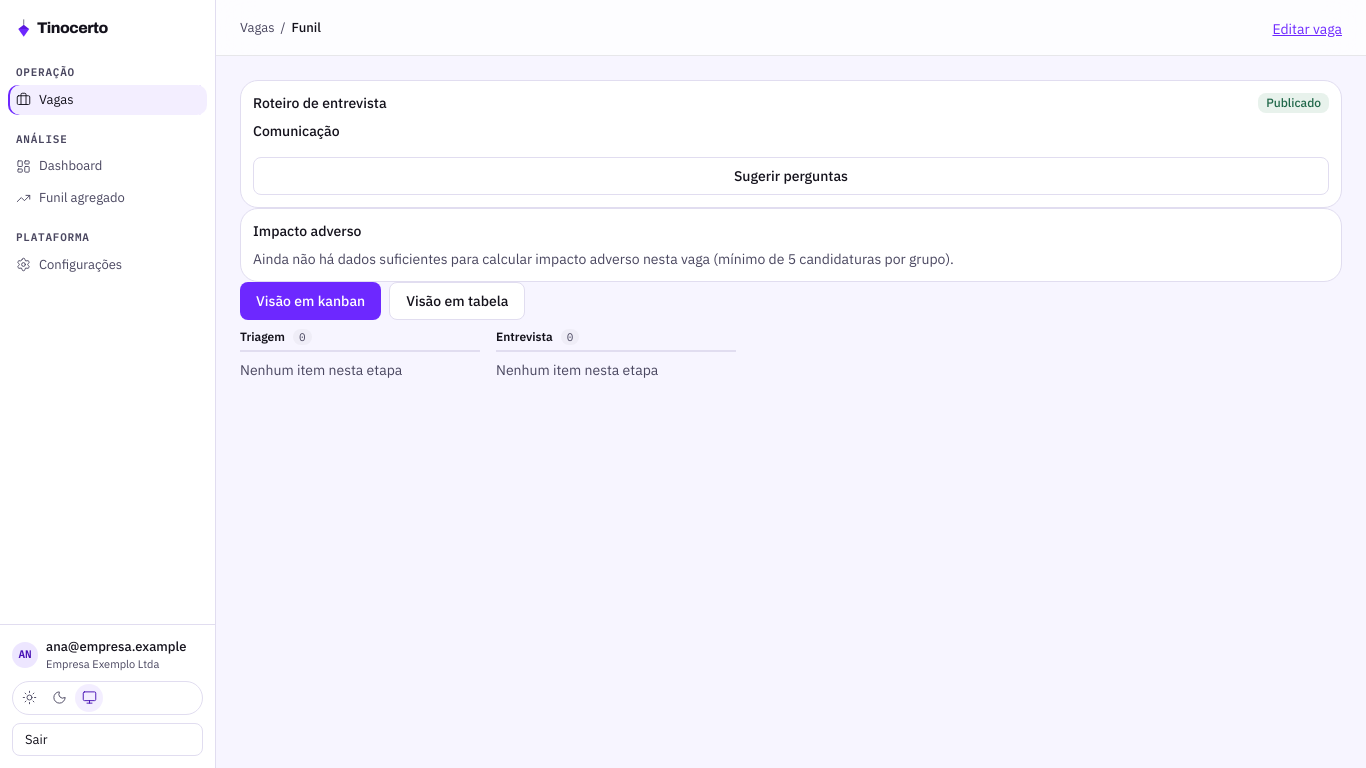
Test: FunilPage › mostra mensagem de indisponibilidade quando gerar perguntas falha com 503
The image size is (1366, 768).
Click the button "Sugerir perguntas" at coordinates (791, 176), box x1=253 y1=157 x2=1329 y2=195
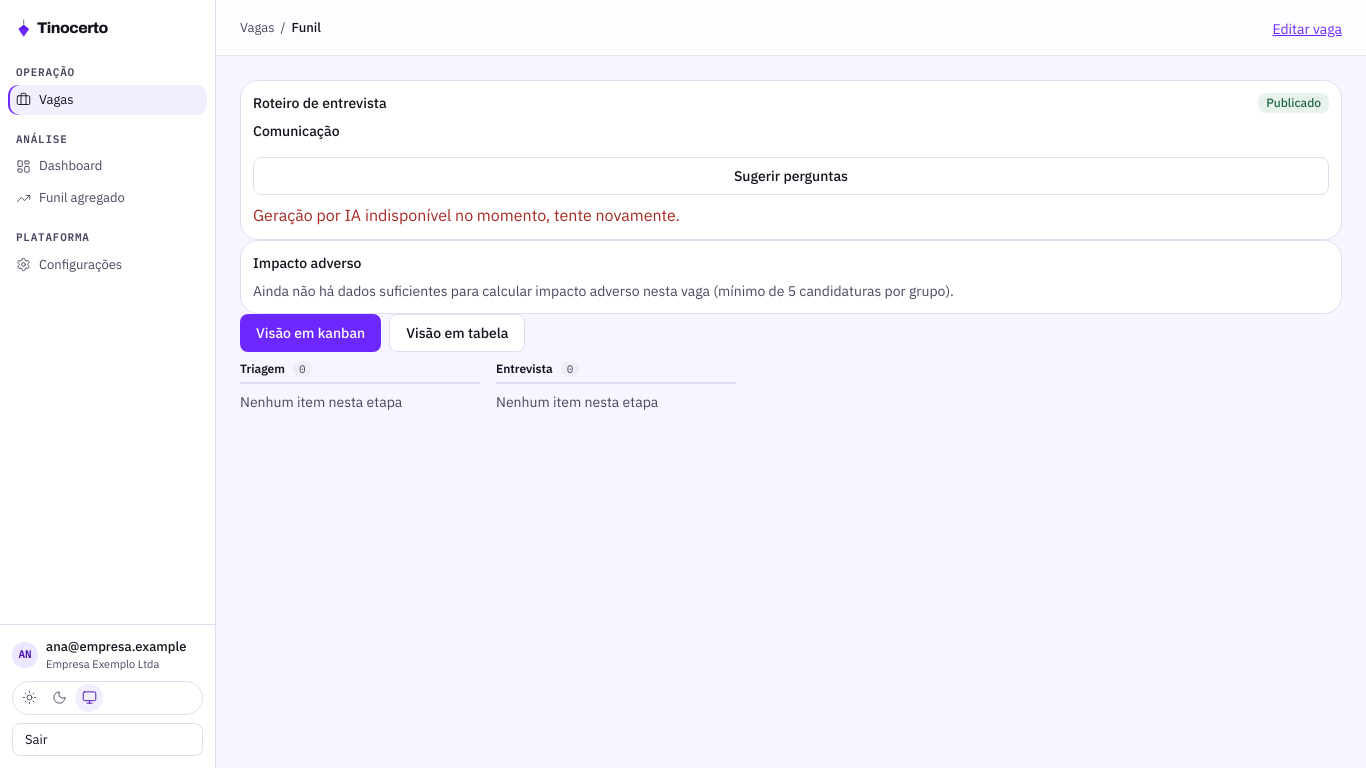
Expected: the text "Geração por IA indisponível no momento, tente novamente." is shown, x1=253 y1=205 x2=680 y2=225
